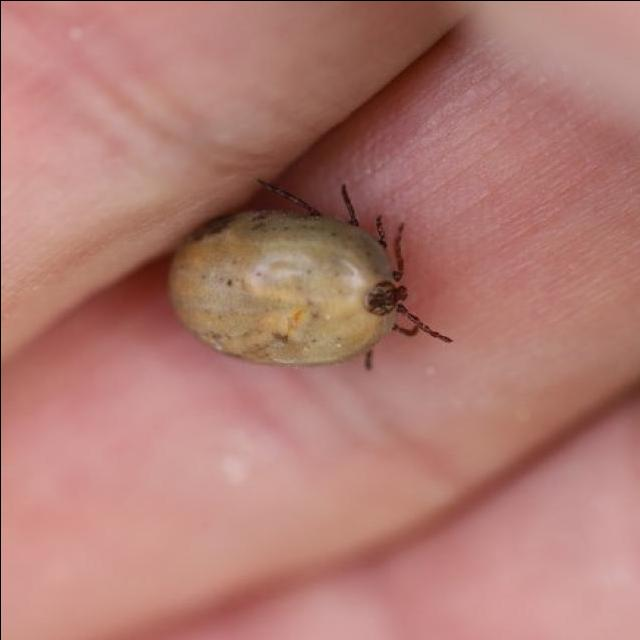Dermacentor Reticulatus-F-Fed: (167, 179, 453, 372)
